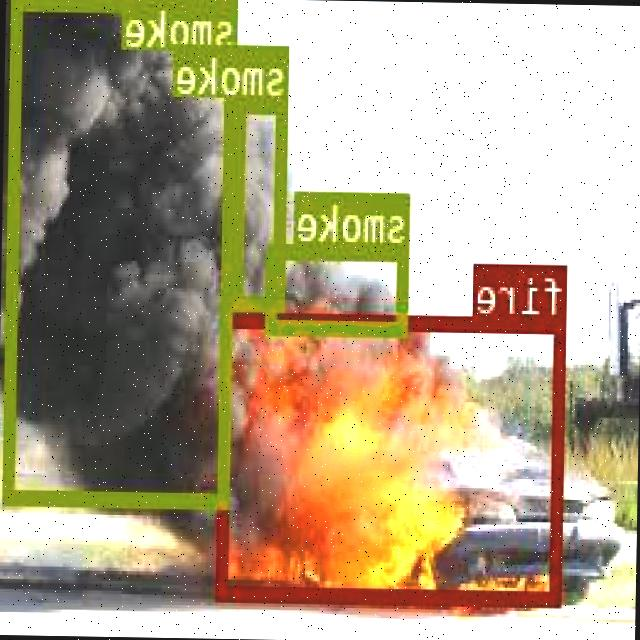fire: (218, 310, 568, 604)
smoke: (5, 0, 239, 503), (266, 242, 412, 333), (234, 95, 290, 307)
